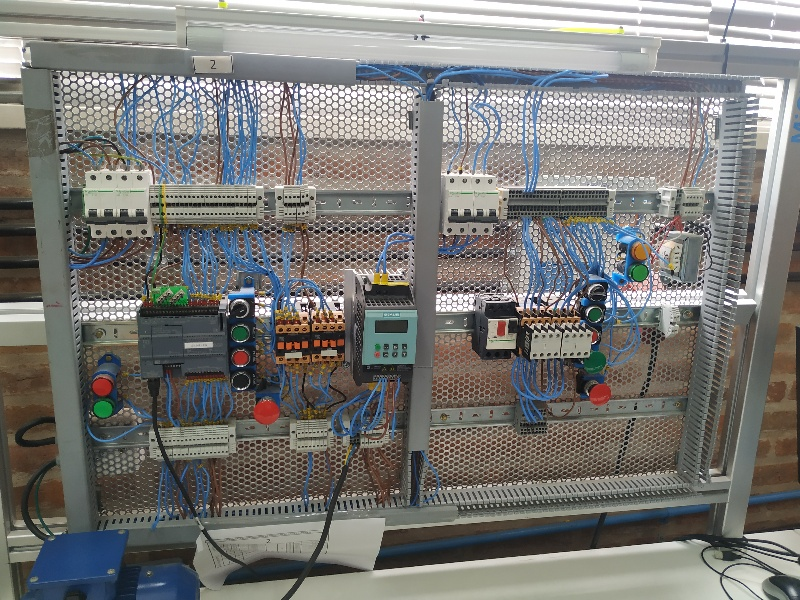Tablero 2: (45, 60, 732, 499)
